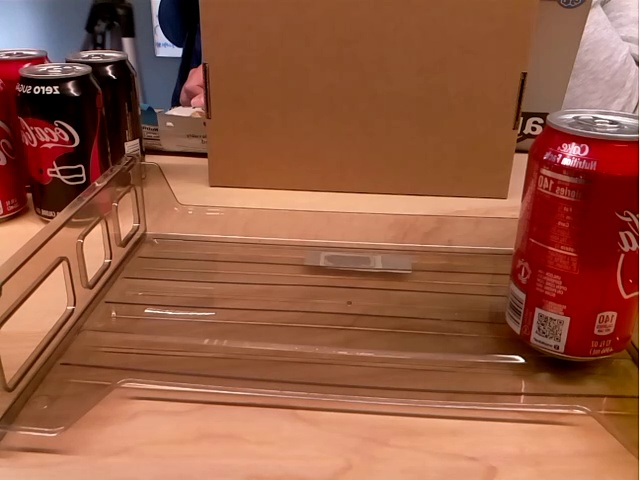cocacola: (501, 109, 640, 365)
